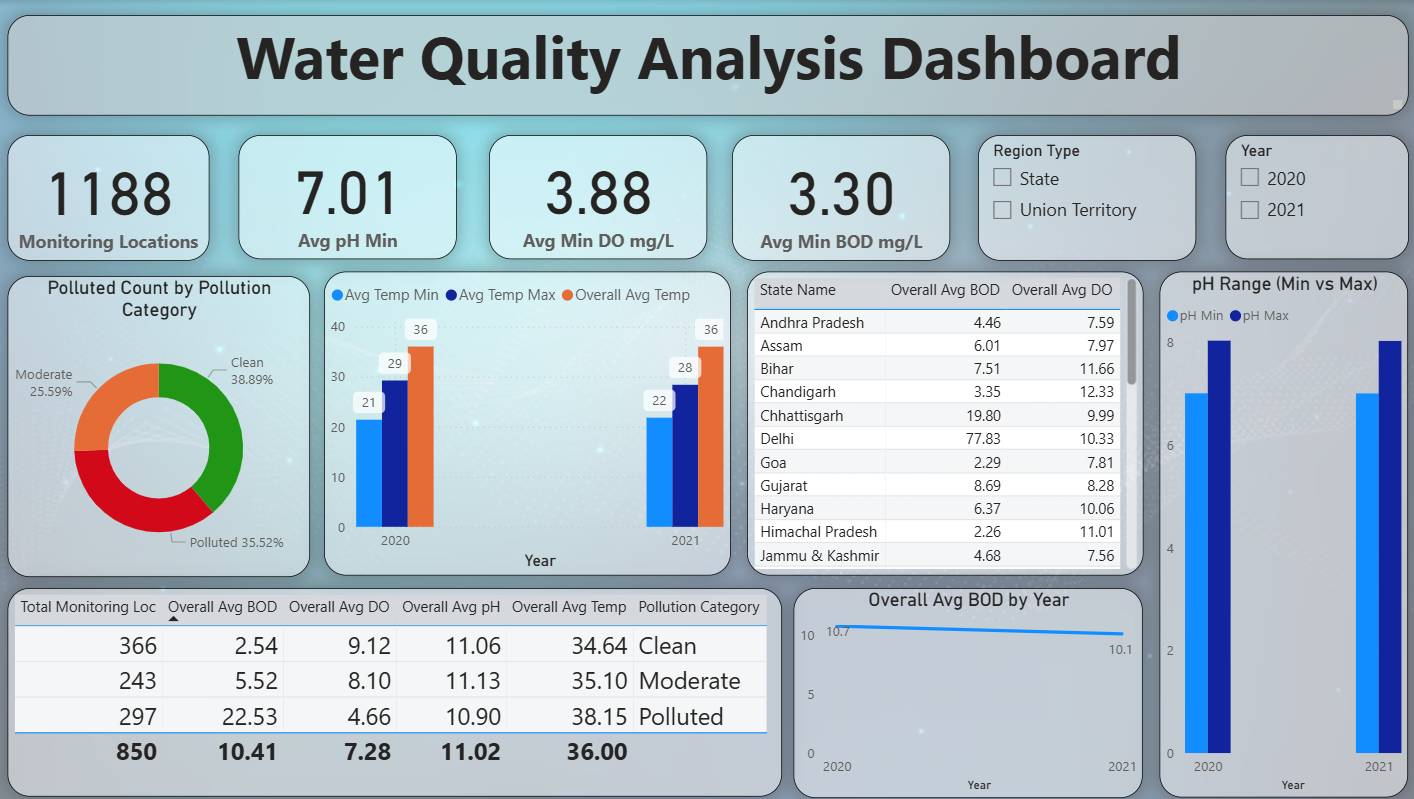

This screenshot's page, from the dashboard's own definition file:
{"tool":"powerbi","page":{"name":"Page 1","canvas":[1280,720],"ordinal":0},"visuals":[{"type":"donutChart","fields":{"Category":["Pollution data.Pollution Category"],"Y":["Pollution data.Polluted Count"]},"box":[9.1,248.3,272.6,271],"z":0},{"type":"tableEx","title":"Avg BOD and Avg DO by State Name","fields":{"Values":["Pollution data.State Name","Pollution data.Overall Avg BOD","Pollution data.Overall Avg DO"]},"box":[675.3,245.3,357.4,274.1],"z":1000},{"type":"lineChart","fields":{"Category":["Pollution data.Year"],"Y":["Pollution data.Overall Avg BOD"]},"box":[717.7,530,315,189.3],"z":2000},{"type":"tableEx","fields":{"Values":["Pollution data.Total Monitoring Loc","Pollution data.Overall Avg BOD","Pollution data.Overall Avg DO","Pollution data.Overall Avg pH","Pollution data.Overall Avg Temp","Pollution data.Pollution Category"]},"box":[9.1,530,698,187.8],"z":3000},{"type":"slicer","fields":{"Values":["Pollution data.Year"]},"box":[1106.9,121.1,165,112.1],"z":4000},{"type":"lineClusteredColumnComboChart","fields":{"Category":["Pollution data.Year"],"Y":["Pollution data.Avg Temp Min","Pollution data.Avg Temp Max","Pollution data.Overall Avg Temp"]},"box":[295.3,245.3,366.4,274.1],"z":5000},{"type":"slicer","fields":{"Values":["Pollution data.Region Type"]},"box":[884.3,121.1,196.8,113.6],"z":6000},{"type":"card","fields":{"Values":["Pollution data.Avg Min BOD"]},"box":[661.7,121.1,196.8,113.6],"z":7000},{"type":"card","fields":{"Values":["Pollution data.Avg Min DO"]},"box":[443.7,121.1,196.8,112.1],"z":8000},{"type":"card","fields":{"Values":["Pollution data.Avg pH Min"]},"box":[218,121.1,196.8,112.1],"z":9000},{"type":"lineClusteredColumnComboChart","title":"pH Range (Min vs Max)","fields":{"Category":["Pollution data.Year"],"Y":["Avg(Pollution data.pH Min)","Avg(Pollution data.pH Max)"]},"box":[1047.8,245.3,224.1,473.9],"z":10000},{"type":"textbox","title":"Water Quality Analysis Dashboard","box":[9.1,13.6,1262.8,90.9],"z":11000},{"type":"card","fields":{"Values":["Pollution data.count"]},"box":[9.1,121.1,181.7,113.6],"z":11001}]}

Visuals, with their boxes in screenshot pixels (x1, y1, x2, y2), scaled from the page's 1280x720 canvas onto the 1414x799 screenshot:
donutChart - Pollution data.Pollution Category x Pollution data.Polluted Count: bbox=[10, 276, 311, 576]
"Avg BOD and Avg DO by State Name" tableEx: bbox=[746, 272, 1141, 576]
lineChart - Pollution data.Year x Pollution data.Overall Avg BOD: bbox=[793, 588, 1141, 798]
tableEx - Pollution data.Total Monitoring Loc x Pollution data.Overall Avg BOD: bbox=[10, 588, 781, 797]
slicer - Pollution data.Year: bbox=[1223, 134, 1405, 259]
lineClusteredColumnComboChart - Pollution data.Year x Pollution data.Avg Temp Min: bbox=[326, 272, 731, 576]
slicer - Pollution data.Region Type: bbox=[977, 134, 1194, 260]
card - Pollution data.Avg Min BOD: bbox=[731, 134, 948, 260]
card - Pollution data.Avg Min DO: bbox=[490, 134, 708, 259]
card - Pollution data.Avg pH Min: bbox=[241, 134, 458, 259]
"pH Range (Min vs Max)" lineClusteredColumnComboChart: bbox=[1157, 272, 1405, 798]
"Water Quality Analysis Dashboard" textbox: bbox=[10, 15, 1405, 116]
card - Pollution data.count: bbox=[10, 134, 211, 260]
